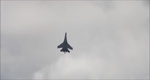maybay_muctieu: (57, 30, 74, 54)
